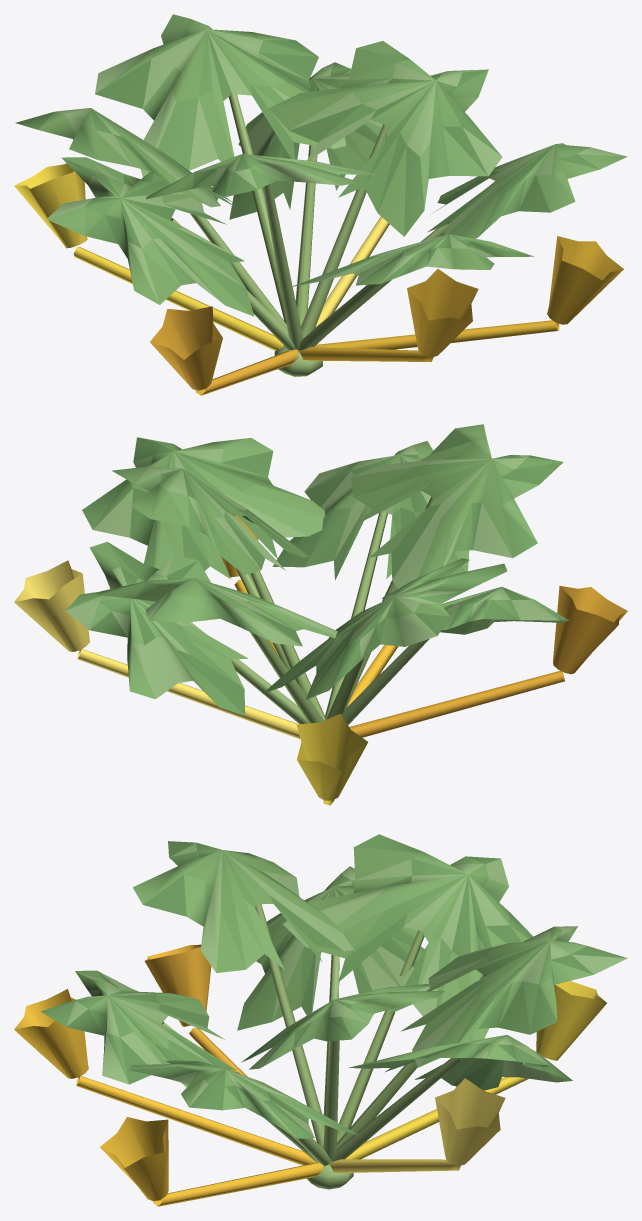
Rendered from courgette_fleurs.glb.
The picture shows the model from 3 angles, top to bottom: view 1: azimuth 30°, elevation 25°; view 2: azimuth 150°, elevation 25°; view 3: azimuth 270°, elevation 25°; orthographic projection.
Visible parts, largest first — view 1: Courgette_Feuilles, Courgette_Fleurs, Courgette_Petioles, Courgette_Coeur; view 2: Courgette_Feuilles, Courgette_Fleurs, Courgette_Petioles; view 3: Courgette_Feuilles, Courgette_Fleurs, Courgette_Petioles, Courgette_Coeur.
Part boxes in pixels (x1=…): Courgette_Feuilles: x1=15, y1=14, x2=627, y2=316; Courgette_Fleurs: x1=14, y1=163, x2=623, y2=395; Courgette_Petioles: x1=170, y1=93, x2=497, y2=350; Courgette_Coeur: x1=274, y1=346, x2=322, y2=376; Courgette_Feuilles: x1=65, y1=424, x2=569, y2=715; Courgette_Fleurs: x1=14, y1=515, x2=627, y2=805; Courgette_Petioles: x1=186, y1=496, x2=435, y2=724; Courgette_Feuilles: x1=41, y1=834, x2=627, y2=1138; Courgette_Fleurs: x1=14, y1=944, x2=606, y2=1206; Courgette_Petioles: x1=162, y1=903, x2=485, y2=1165; Courgette_Coeur: x1=307, y1=1162, x2=353, y2=1189.
Bounding box in the file's own units: 0.7647 × 0.4172 × 0.8212.
